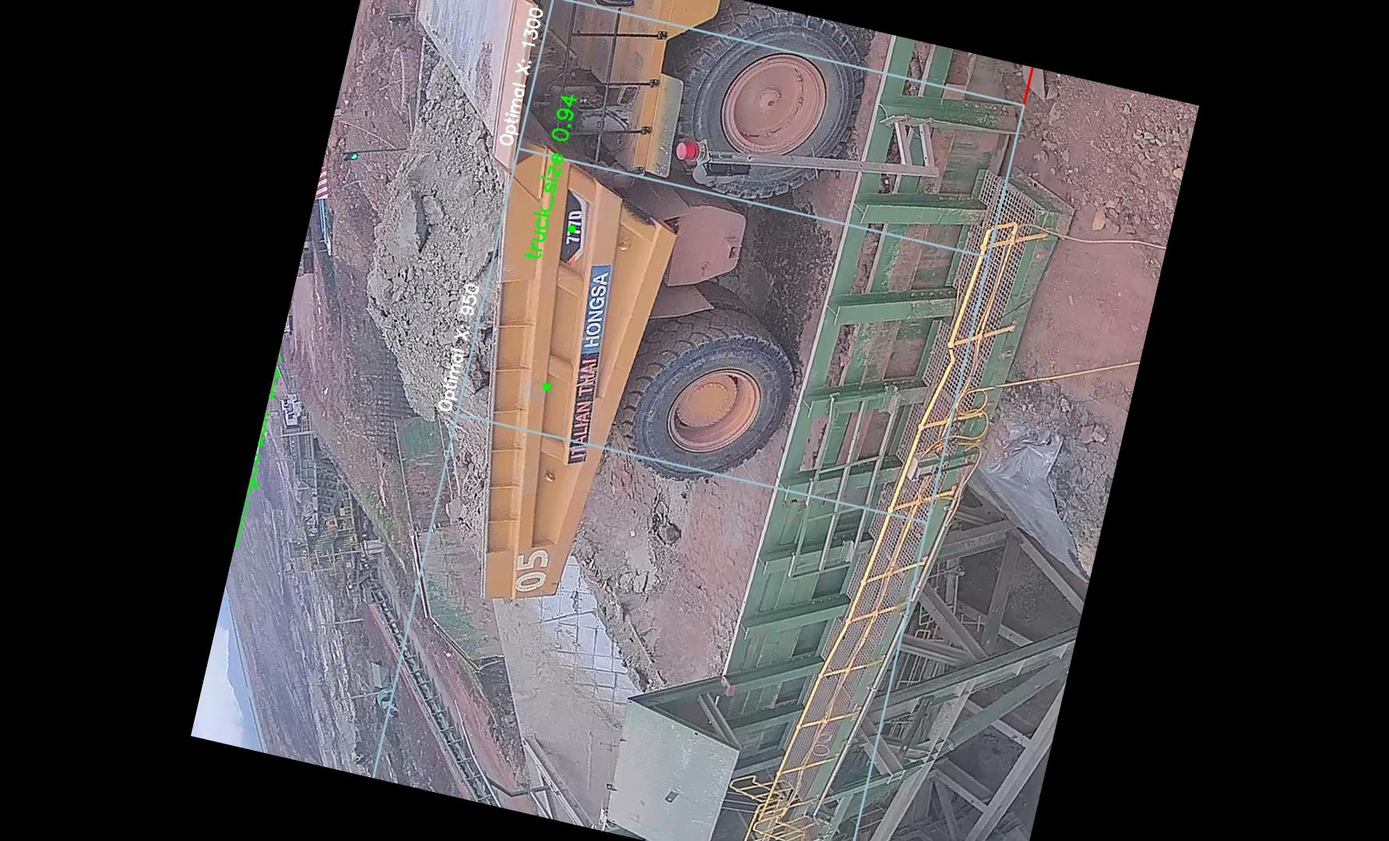company: (543, 259, 640, 470)
full_load: (337, 127, 542, 417)
mining_truck: (268, 0, 870, 667)
tail_number: (498, 530, 566, 606)
truck_size: (551, 187, 599, 267)
